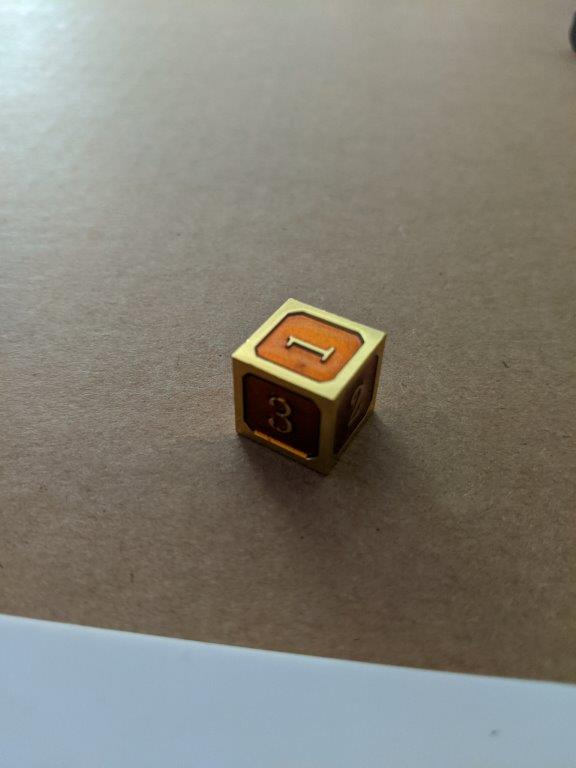d6-1: (231, 294, 384, 481)
